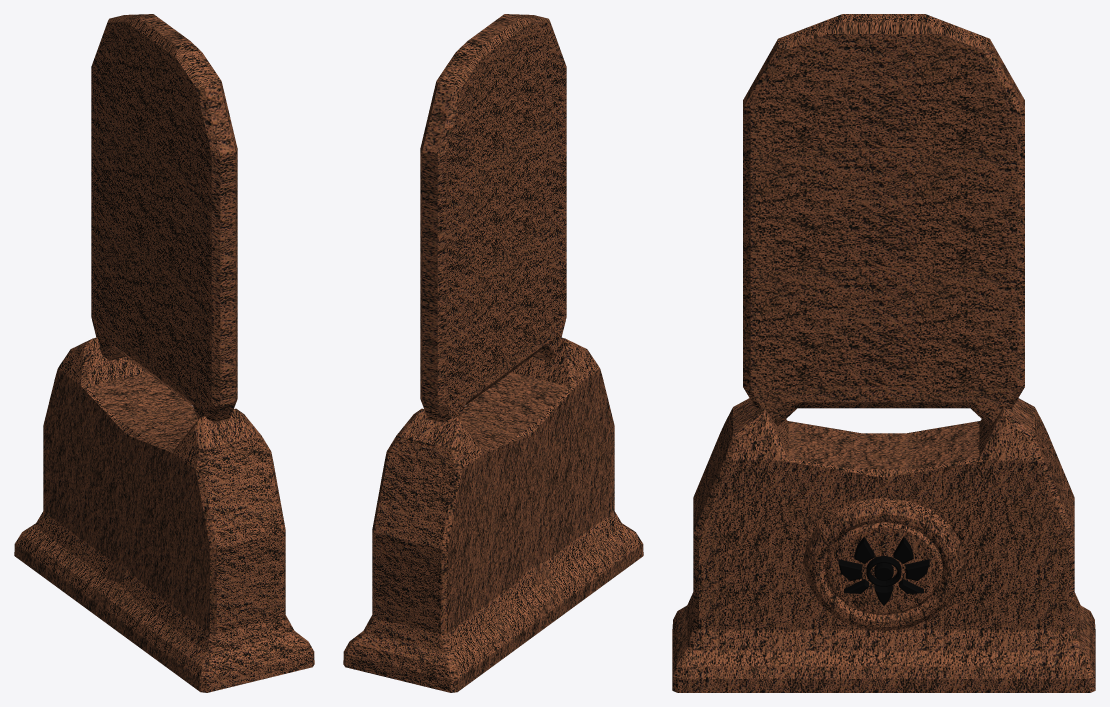
Rendered from LoreTab (Main RoomVoid).fbx.
The picture shows the model from 3 angles, left to right: view 1: azimuth 30°, elevation 25°; view 2: azimuth 150°, elevation 25°; view 3: azimuth 270°, elevation 25°; orthographic projection. The views are drawn at different scales.
Visible parts, largest first — view 1: Base.001, Tablet; view 2: Base.001, Tablet; view 3: Tablet, Base.001, crest.
Part boxes in pixels (x1,y1,x2,y2): Base.001: (14,337,314,692); Tablet: (91,14,237,422); Base.001: (343,337,643,692); Tablet: (420,14,566,422); Tablet: (743,14,1024,425); Base.001: (672,398,1095,692); crest: (838,536,929,605).
Size of the model in its own units: 55.19 by 261 by 156.
Materials: 3 (2 with a texture image).
